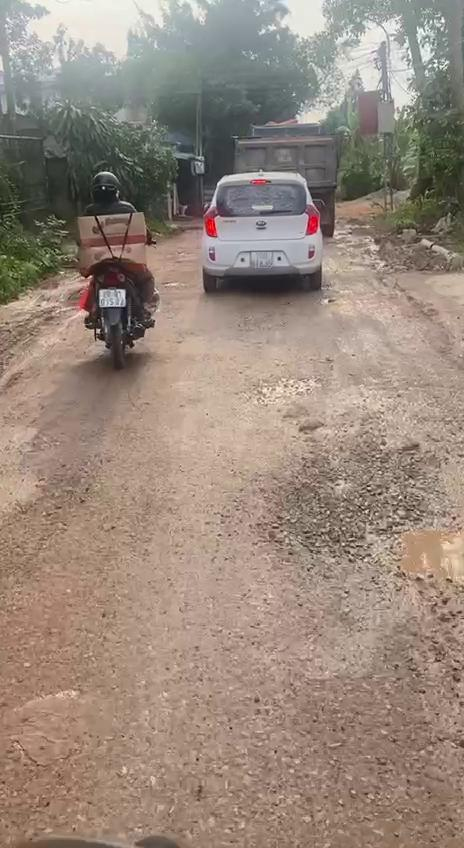pothole: (274, 433, 464, 603)
